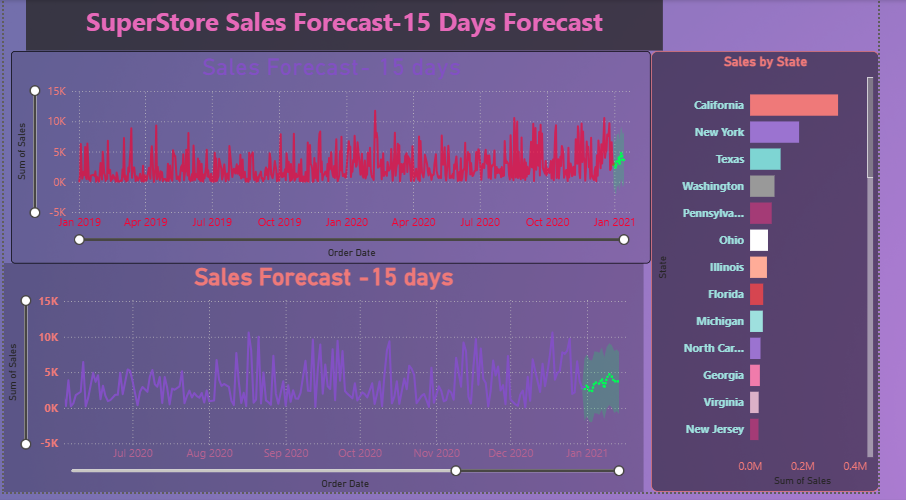

Layout of this report page (visuals, bound fields, positions):
{"tool":"powerbi","page":{"name":"Page 2","canvas":[1280,720],"ordinal":1},"visuals":[{"type":"lineChart","title":"Sales Forecast- 15 days","fields":{"Y":["Sum(SuperStore_Sales_Dataset.Sales)"],"Category":["SuperStore_Sales_Dataset.Order Date"]},"box":[10.6,74.5,936.2,310.6],"z":0},{"type":"lineChart","title":"Sales Forecast -15 days","fields":{"Y":["Sum(SuperStore_Sales_Dataset.Sales)"],"Category":["SuperStore_Sales_Dataset.Order Date"]},"box":[0,385.1,936.2,336.2],"z":1000},{"type":"clusteredBarChart","title":"Sales by State","fields":{"Category":["SuperStore_Sales_Dataset.State"],"Y":["Sum(SuperStore_Sales_Dataset.Sales)"]},"box":[946.8,74.6,333.7,645.4],"z":2000},{"type":"textbox","box":[31.9,0,931.9,74.5],"z":3000}]}

Visuals, with their boxes in screenshot pixels (x1, y1, x2, y2), scaled from the page's 1280x720 canvas onto the 906x500 screenshot:
"Sales Forecast- 15 days" lineChart: {"left": 8, "top": 52, "right": 670, "bottom": 267}
"Sales Forecast -15 days" lineChart: {"left": 0, "top": 267, "right": 663, "bottom": 499}
"Sales by State" clusteredBarChart: {"left": 670, "top": 52, "right": 905, "bottom": 499}
textbox: {"left": 23, "top": 0, "right": 682, "bottom": 52}
